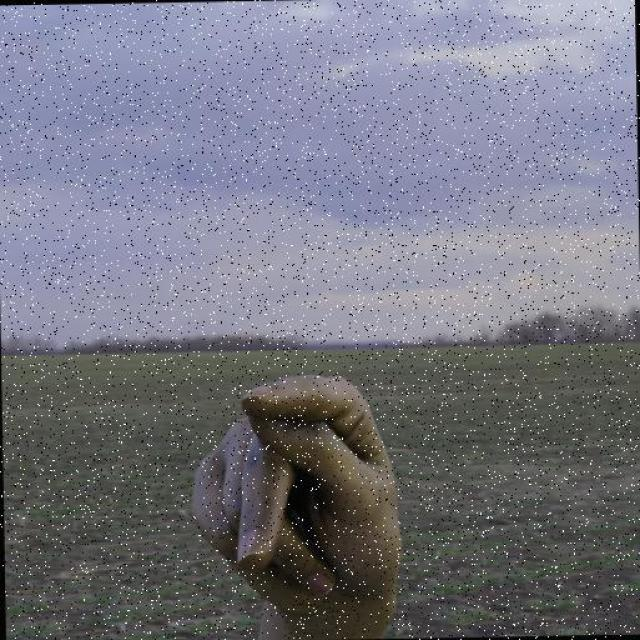P: (185, 370, 405, 629)
